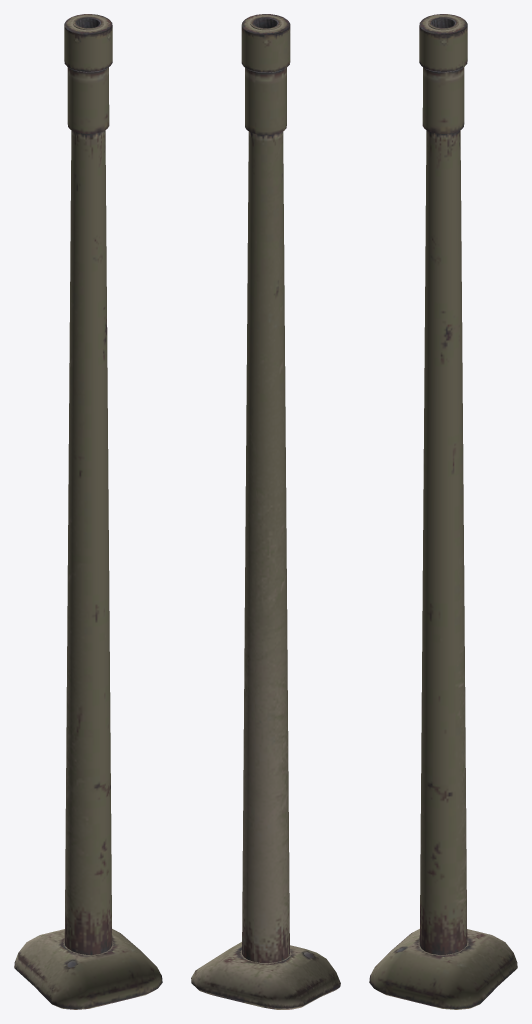
Rendered from Gun_05.glb.
3 renders of one model, left to right at view 1: azimuth 30°, elevation 25°; view 2: azimuth 150°, elevation 25°; view 3: azimuth 330°, elevation 25°, orthographic.
Visible parts, largest first — view 1: set_0_group_0; view 2: set_0_group_0; view 3: set_0_group_0.
Boxes of the visible parts, x1,y1,x2,y2 form: set_0_group_0: (14, 14, 162, 1009); set_0_group_0: (191, 14, 340, 1009); set_0_group_0: (369, 14, 517, 1009).
Size of the model in its own units: 0.4653 by 3.83 by 0.4418.
1 material, 1 textured.
